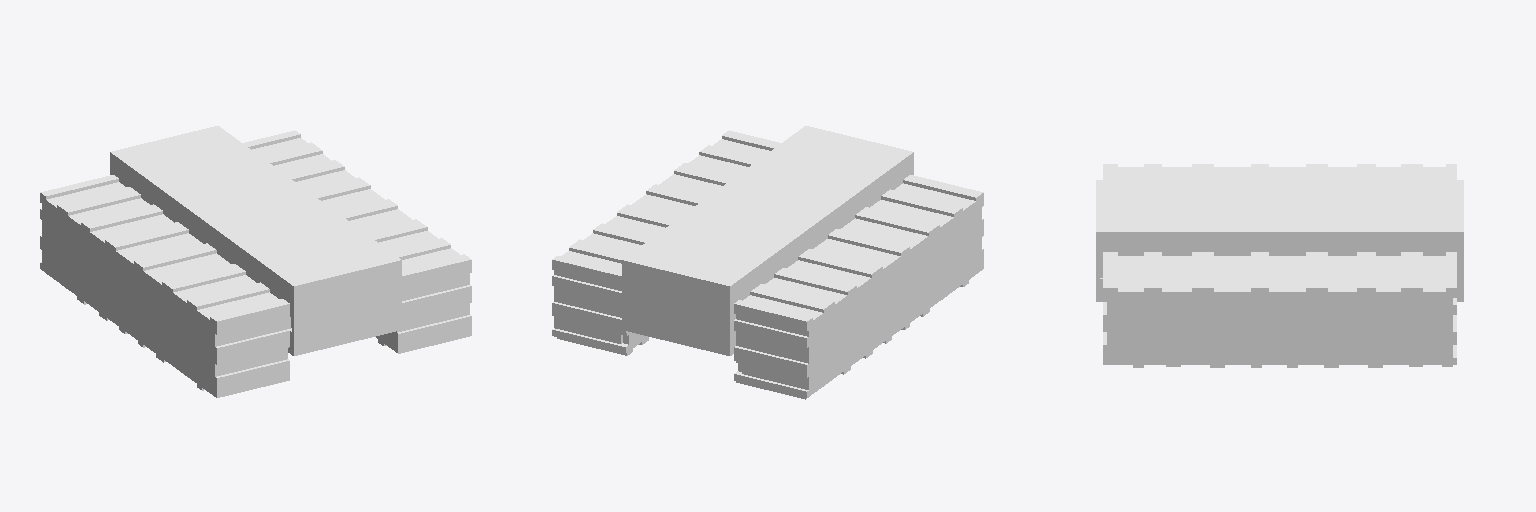
File: TankWheels2.obj
3 renders of one model, left to right at view 1: azimuth 30°, elevation 25°; view 2: azimuth 150°, elevation 25°; view 3: azimuth 270°, elevation 25°, orthographic.
Visible parts, largest first — view 1: object 1; view 2: object 1; view 3: object 1.
Boxes of the visible parts, box(x1,y1,x2,y2) form: object 1: box(40, 126, 471, 397); object 1: box(552, 126, 983, 399); object 1: box(1096, 164, 1463, 367).
Bounding box in the file's own units: 8 × 3 × 10.